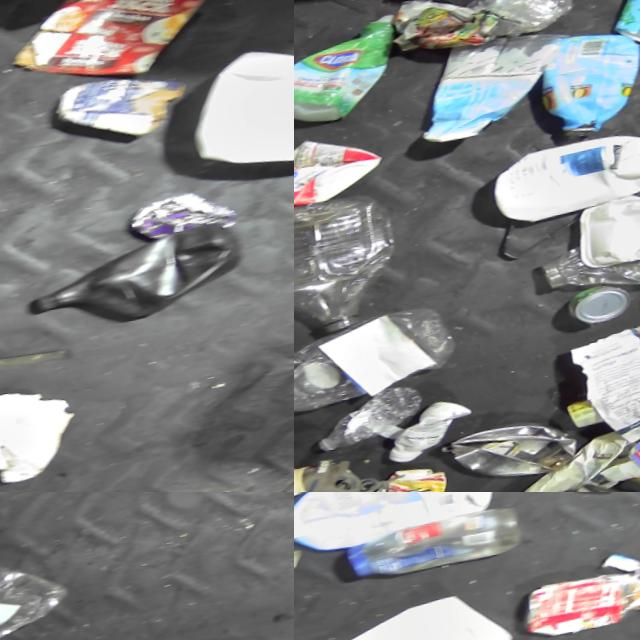can: (519, 579, 625, 640), (563, 288, 639, 339)
milk_jug: (483, 133, 640, 241), (183, 48, 294, 197)
non_white_jug: (27, 227, 253, 350), (415, 41, 563, 153), (294, 16, 412, 138), (535, 34, 640, 143), (601, 0, 640, 63)
plastic_bottle: (294, 308, 455, 428), (294, 191, 402, 344), (316, 389, 429, 459), (507, 492, 640, 514)
